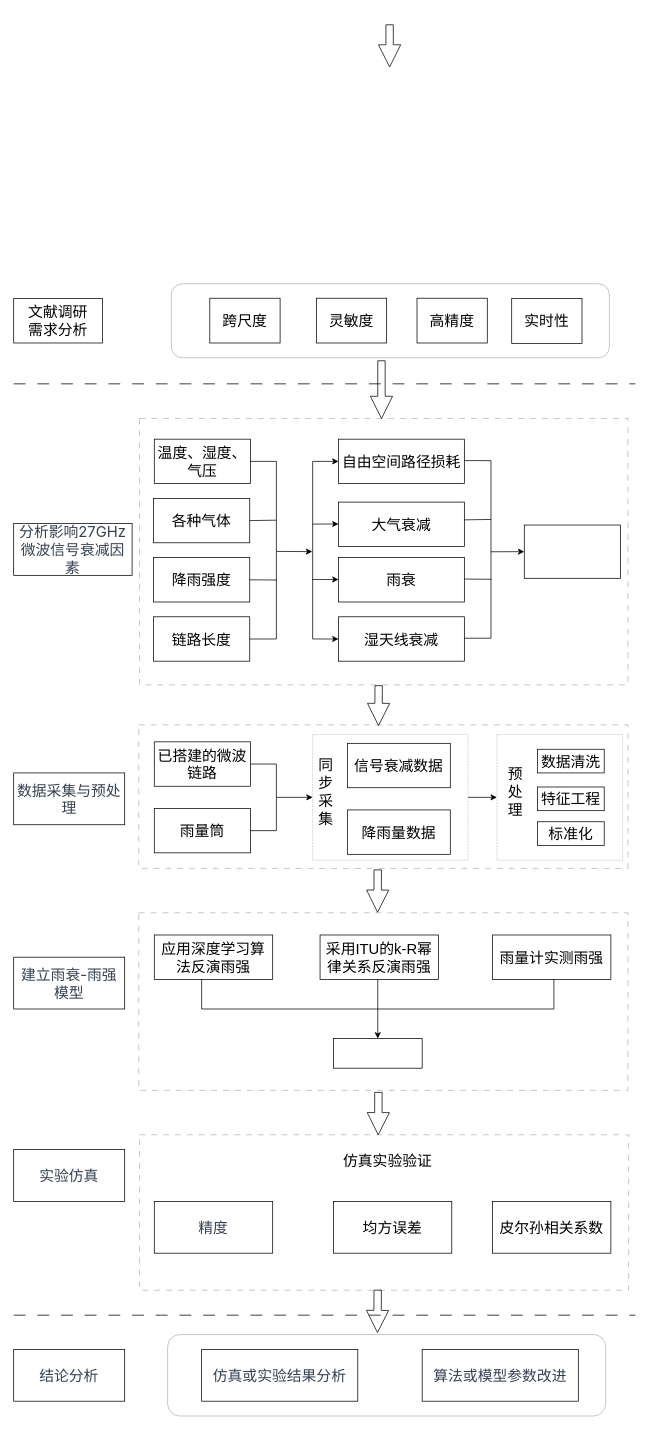
Some shapes in this 648 by 1429 pixel diagram are drawn without their labels. Each missing label, with the centre of its shape:
仿真: (x=377, y=1053)
计算微波链路信号总衰减: (x=572, y=551)
